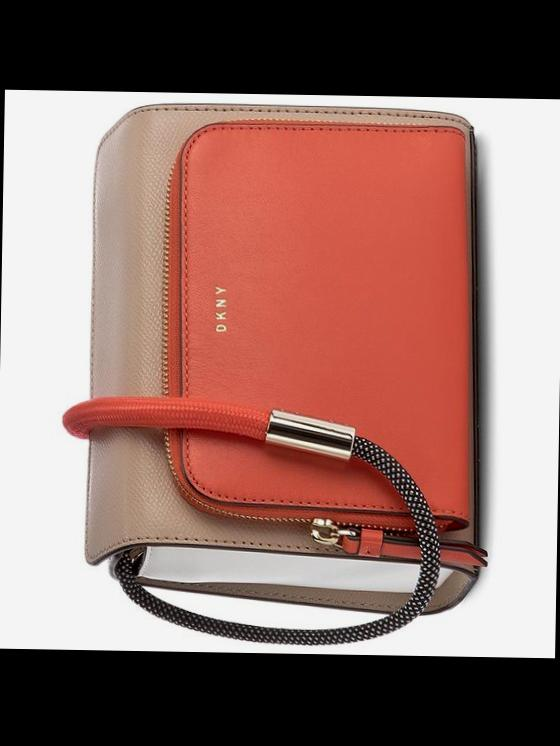DKNY: (214, 285, 228, 330)
